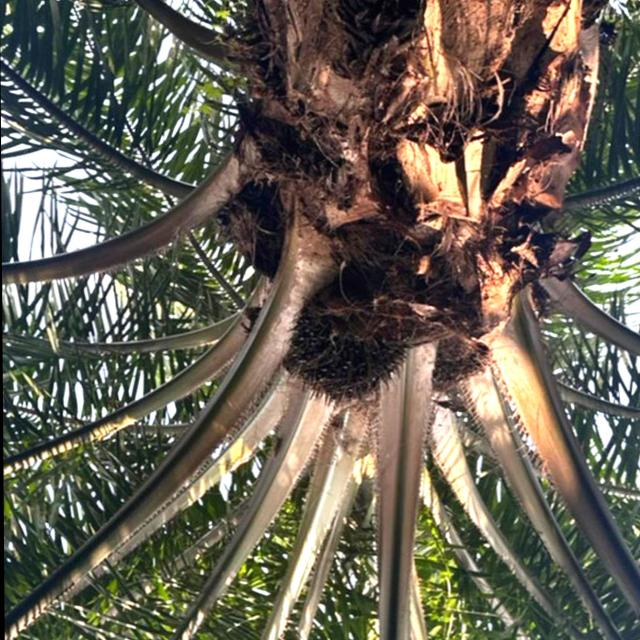unripe: (275, 295, 414, 414)
